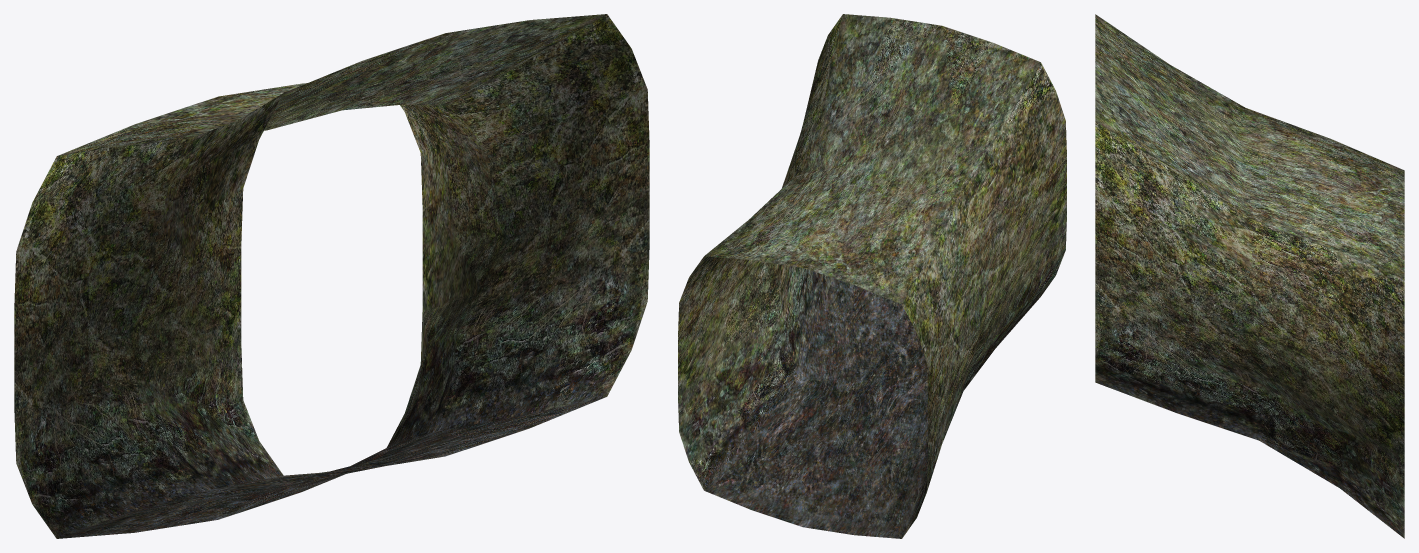
Rendered from thm_all_cave_flatland_s03_damprock_r13_r13.fbx.
3 views of the same model, side by side, from view 1: azimuth 30°, elevation 25°; view 2: azimuth 150°, elevation 25°; view 3: azimuth 270°, elevation 25° (orthographic). The views are drawn at different scales.
Parts seen in each view (by area): view 1: mesh_node; view 2: mesh_node; view 3: mesh_node.
Boxes of the visible parts, x1,y1,x2,y2 form: mesh_node: (14, 14, 649, 538); mesh_node: (678, 14, 1066, 538); mesh_node: (1095, 14, 1404, 538).
Bounding box in the file's own units: 8 × 12.23 × 7.71.
